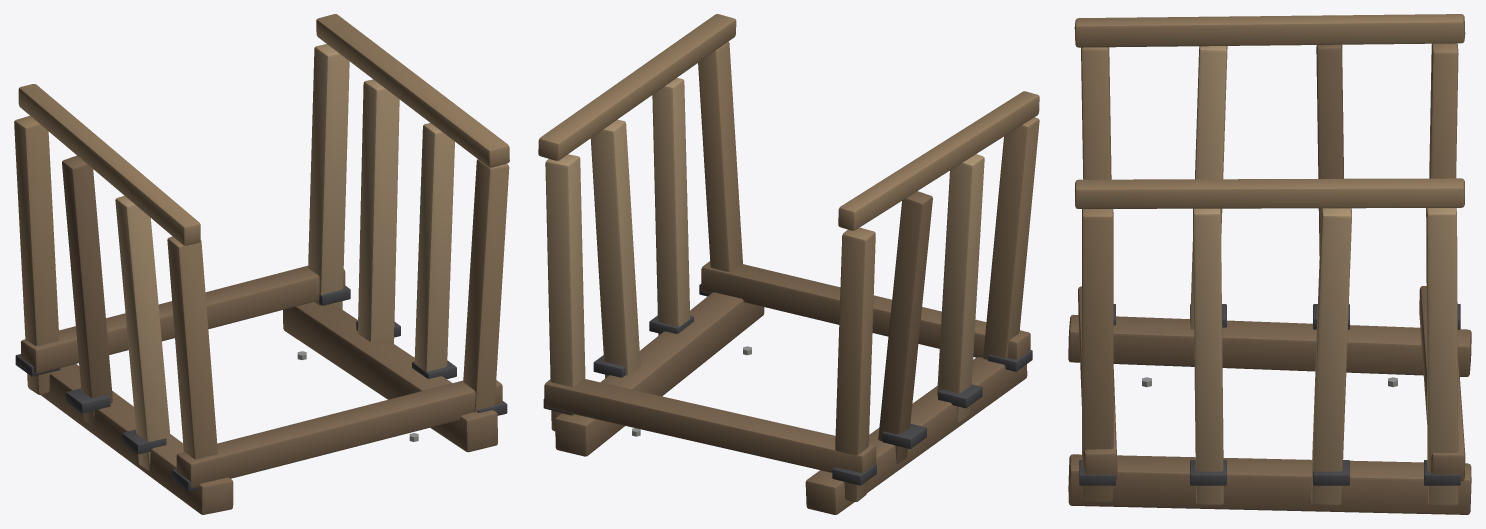
Rendered from wood_rack.glb.
The picture shows the model from 3 angles, left to right: view 1: azimuth 30°, elevation 25°; view 2: azimuth 150°, elevation 25°; view 3: azimuth 270°, elevation 25°; orthographic projection. The views are drawn at different scales.
Visible parts, largest first — view 1: Part; view 2: Part; view 3: Part.
Boxes of the visible parts, x1,y1,x2,y2 form: Part: (14, 14, 509, 514); Part: (538, 14, 1039, 514); Part: (1068, 14, 1471, 514).
Size of the model in its own units: 1.03 by 0.9224 by 0.9837.
